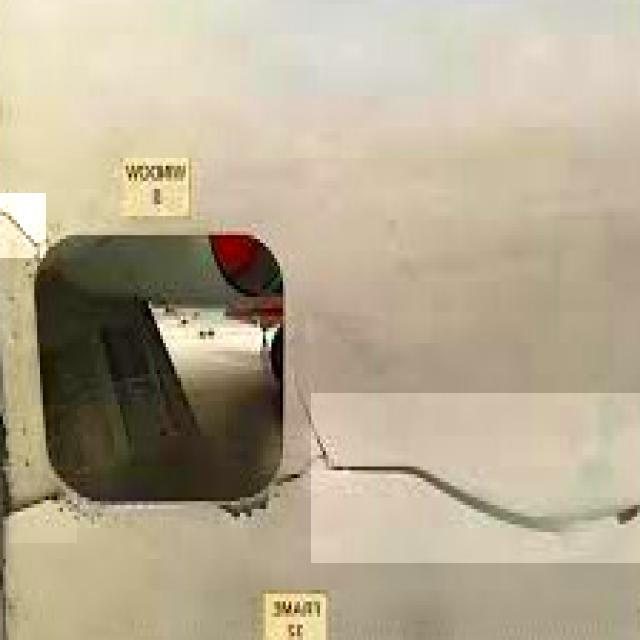crack: (312, 394, 640, 564), (10, 491, 78, 545), (1, 194, 47, 259)
